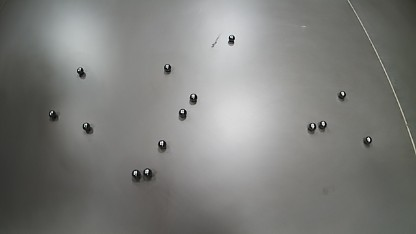ironball: (143, 168, 152, 178), (131, 169, 140, 179), (157, 140, 166, 149), (82, 122, 91, 131), (308, 122, 316, 131), (318, 120, 326, 129), (189, 93, 197, 102), (363, 136, 372, 144), (48, 110, 57, 118), (338, 91, 346, 99), (179, 108, 186, 117), (164, 64, 171, 72), (228, 34, 235, 42), (77, 67, 84, 74)
